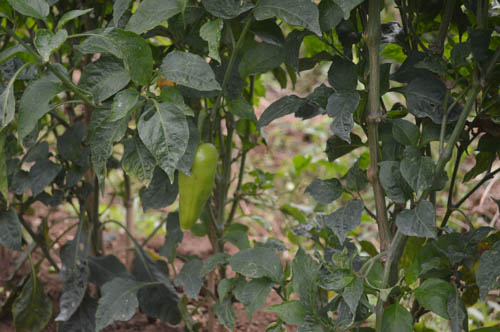ChiliPepper: (174, 145, 222, 236)
